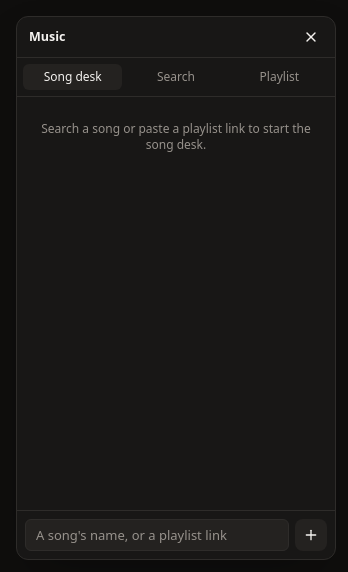
choosing a track › says a library that is not signed in plays at most 320 kbps
Click the tab "Search" at (176, 77), box [126,64,226,90]
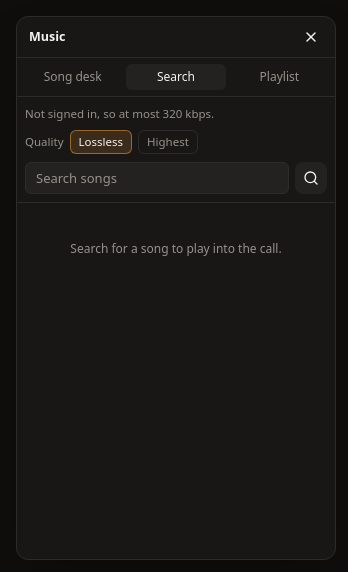
Check: the text "Not signed in, so at most 320 kbps." is shown, box [25,106,214,121]
